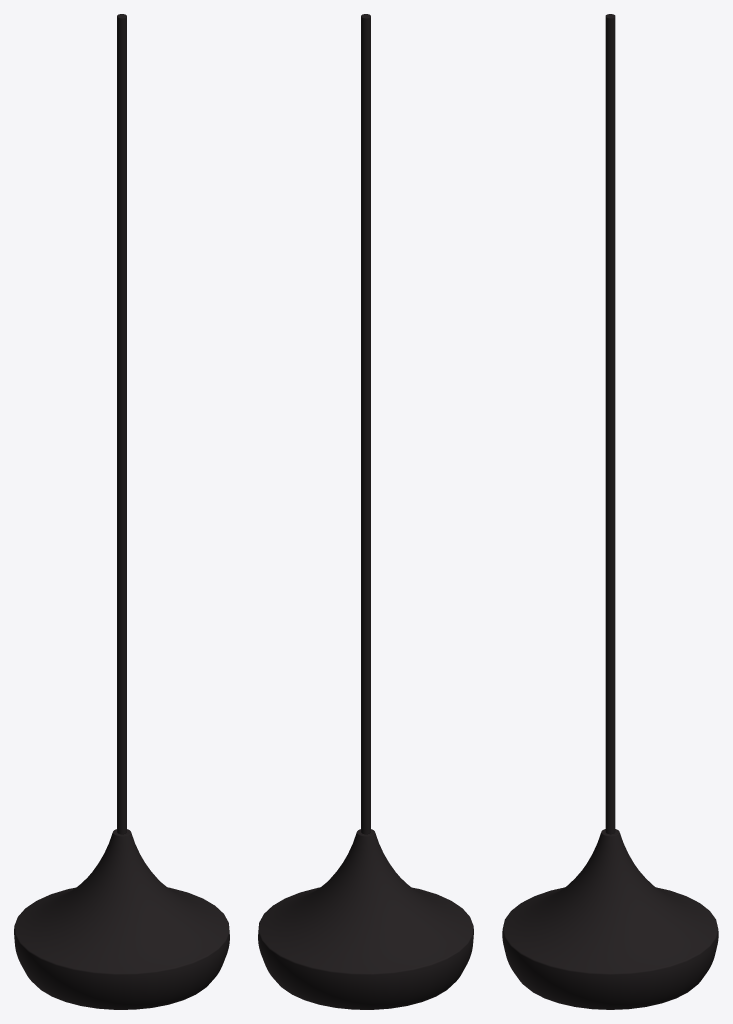
3 views of the same model, side by side, from view 1: azimuth 30°, elevation 25°; view 2: azimuth 150°, elevation 25°; view 3: azimuth 270°, elevation 25° (orthographic).
Visible parts, largest first — view 1: Lamp_Lamp_0; view 2: Lamp_Lamp_0; view 3: Lamp_Lamp_0.
Part boxes in pixels (x1=…): Lamp_Lamp_0: x1=14, y1=14, x2=229, y2=1009; Lamp_Lamp_0: x1=258, y1=14, x2=473, y2=1009; Lamp_Lamp_0: x1=502, y1=14, x2=718, y2=1009.
Size of the model in its own units: 47.1 by 229 by 47.1.
2 materials, 2 textured.
